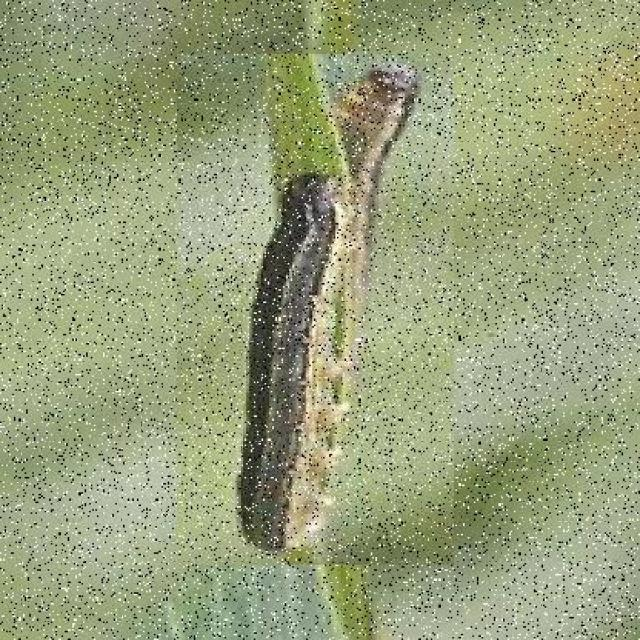Plaga: (177, 53, 457, 567)
